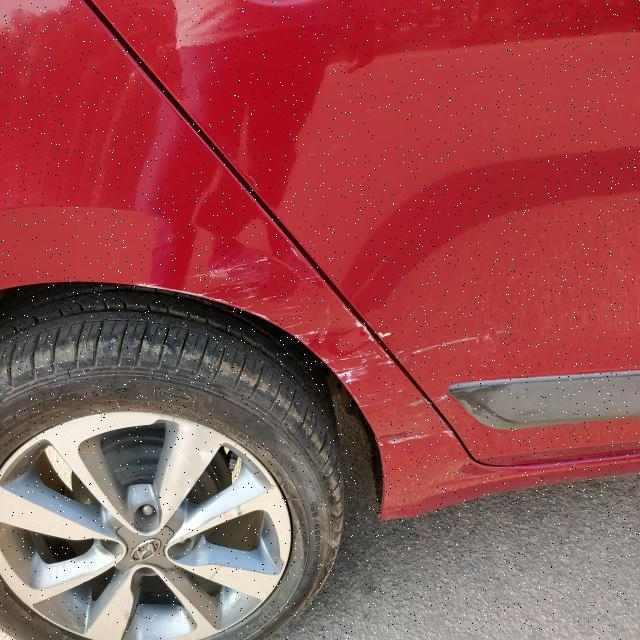quaterpanel-dent: (0, 147, 396, 608)
